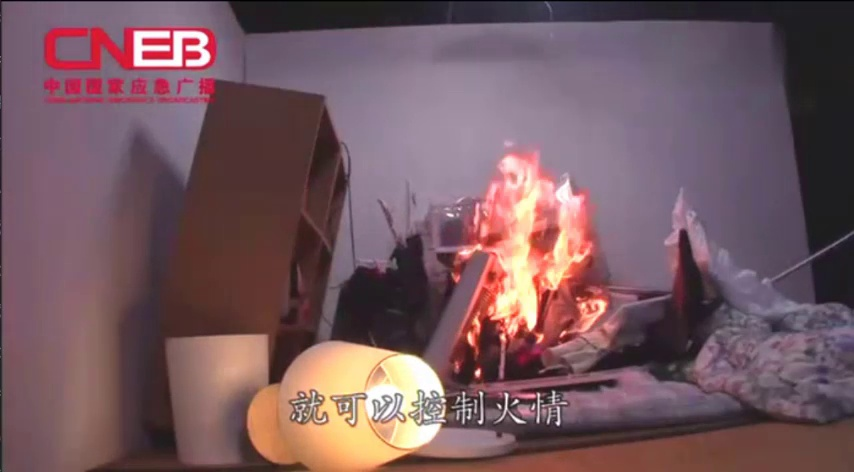fire: (447, 137, 616, 388)
